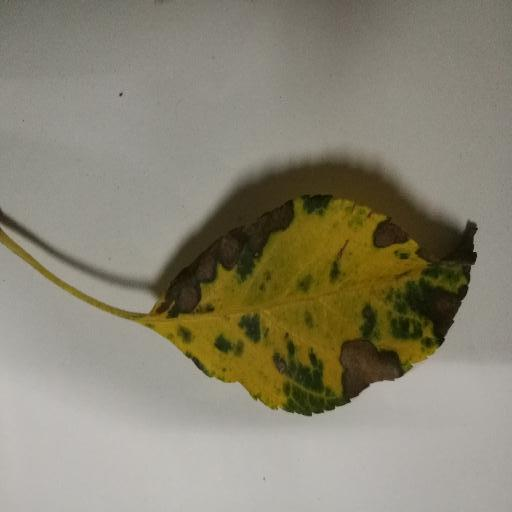Brown_Spot: (167, 208, 287, 313), (340, 339, 396, 391), (369, 216, 421, 245)
